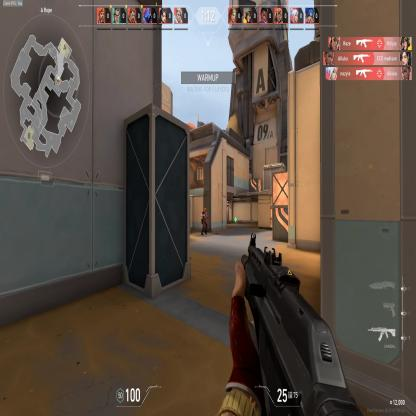enemy: (200, 206, 210, 236)
